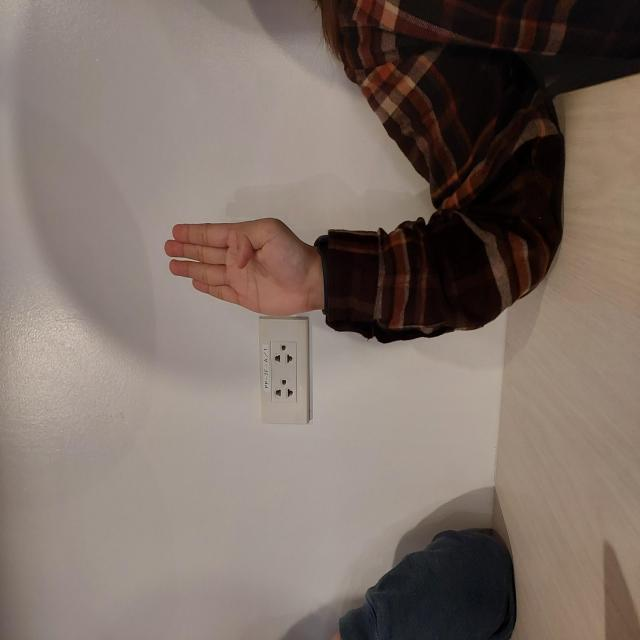B: (321, 160, 431, 318)
